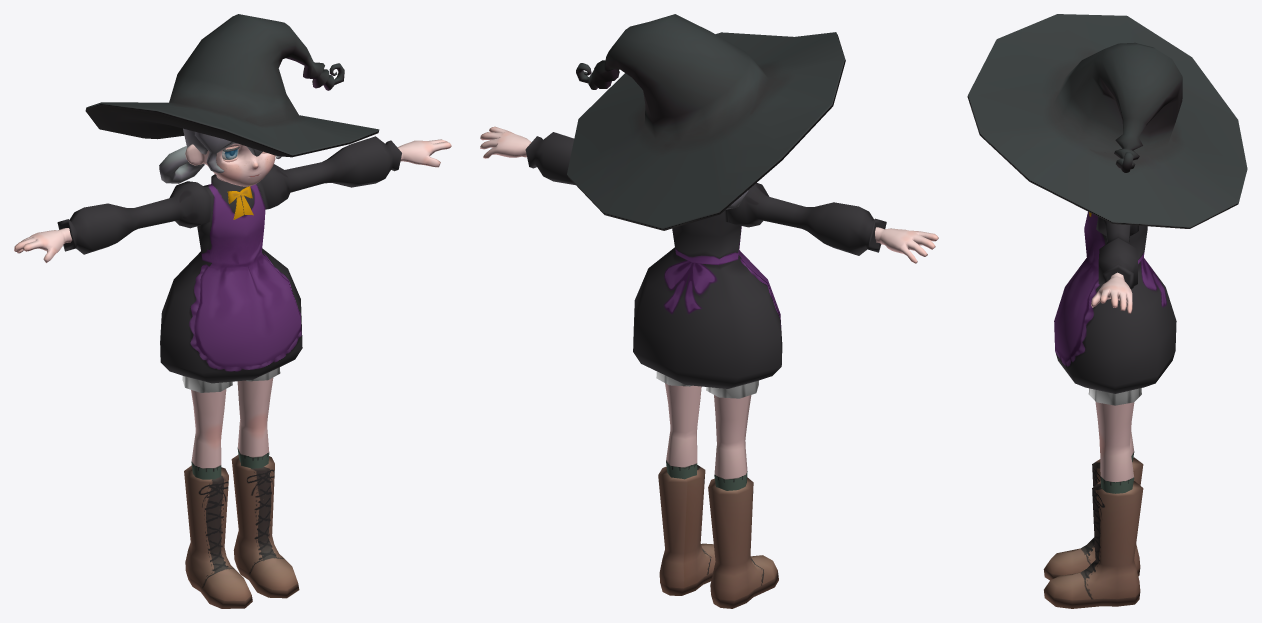
Rendered from witch_final.fbx.
The picture shows the model from 3 angles, left to right: view 1: azimuth 30°, elevation 25°; view 2: azimuth 150°, elevation 25°; view 3: azimuth 270°, elevation 25°; orthographic projection. The views are drawn at different scales.
Parts seen in each view (by area): view 1: dress, hat, shoes, body, sidetail, pants, sidebang; view 2: hat, dress, shoes, body, pants; view 3: hat, dress, shoes, body, pants.
Part boxes in pixels (<box>): dress: <box>57,136,401,383</box>; hat: <box>85,14,379,157</box>; shoes: <box>184,454,299,608</box>; body: <box>14,139,451,479</box>; sidetail: <box>159,146,204,183</box>; pants: <box>182,367,280,392</box>; sidebang: <box>194,131,281,173</box>; hat: <box>567,14,845,230</box>; dress: <box>525,132,886,388</box>; shoes: <box>658,465,778,608</box>; body: <box>480,126,938,490</box>; pants: <box>656,371,758,398</box>; hat: <box>967,14,1247,228</box>; dress: <box>1054,211,1176,393</box>; shoes: <box>1043,457,1143,608</box>; body: <box>1091,272,1134,493</box>; pants: <box>1088,388,1141,405</box>.
Size of the model in its own units: 11.56 by 13.96 by 6.37.
Materials: 1 (1 with a texture image).
